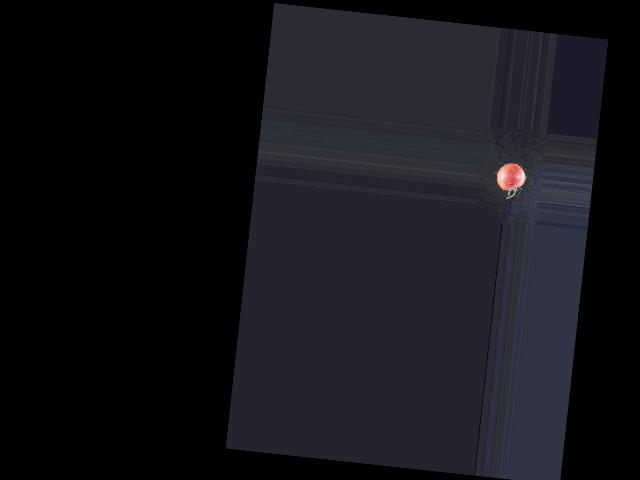tomato: (495, 161, 526, 192)
